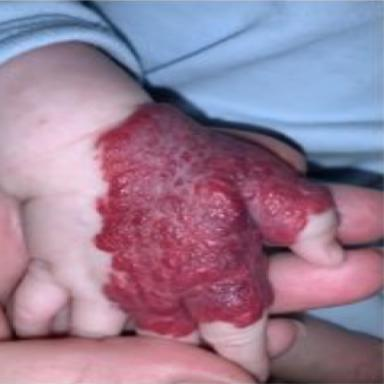Hemangiome: (93, 104, 333, 335)
